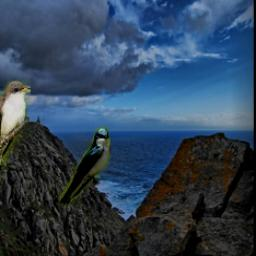Cuckoo: (0, 82, 31, 194)
Swallow: (58, 126, 112, 208)
